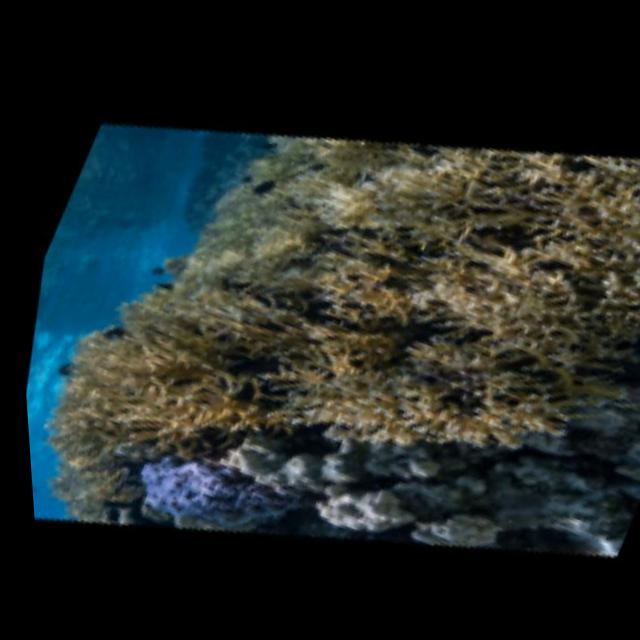Dead Coral: (198, 171, 636, 522), (19, 225, 333, 508), (428, 102, 640, 387)
